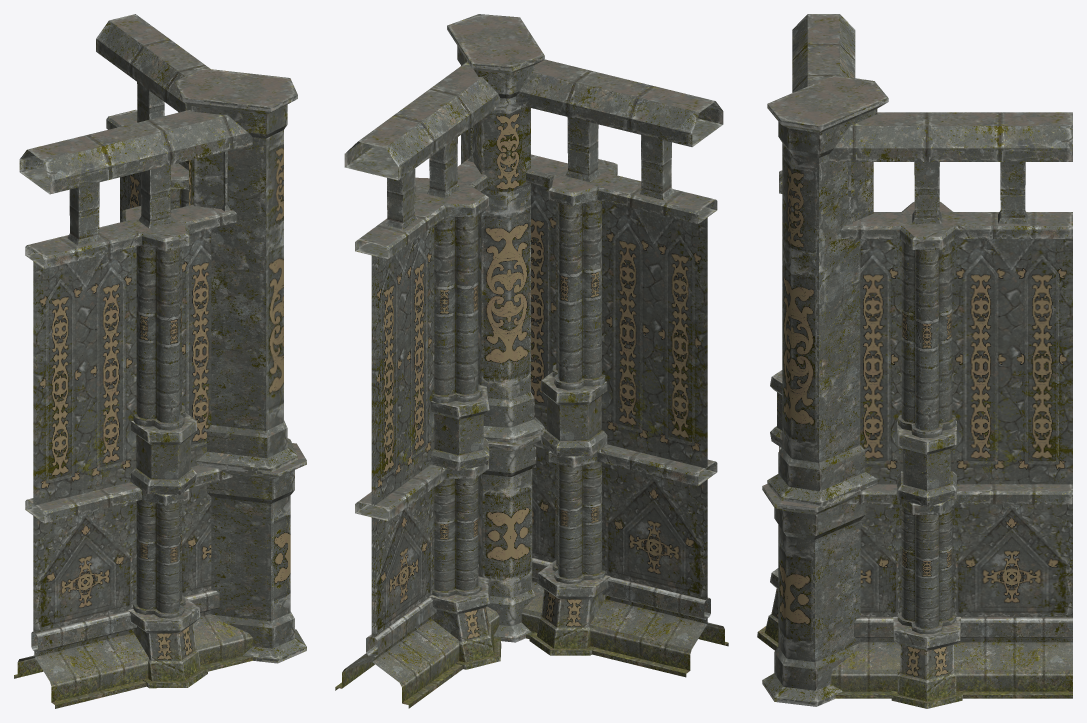
The model's file is SM_Kit_Tile_Wall_Stone_A_L2.fbx.
The picture shows the model from 3 angles, left to right: view 1: azimuth 30°, elevation 25°; view 2: azimuth 150°, elevation 25°; view 3: azimuth 270°, elevation 25°; orthographic projection. The views are drawn at different scales.
Parts seen in each view (by area): view 1: SM_Kit_Tile_Wall_Stone_A_L2_LOD0; view 2: SM_Kit_Tile_Wall_Stone_A_L2_LOD0; view 3: SM_Kit_Tile_Wall_Stone_A_L2_LOD0.
Boxes of the visible parts, x1,y1,x2,y2 form: SM_Kit_Tile_Wall_Stone_A_L2_LOD0: (14,14,306,708); SM_Kit_Tile_Wall_Stone_A_L2_LOD0: (335,14,728,708); SM_Kit_Tile_Wall_Stone_A_L2_LOD0: (757,14,1072,708).
Bounding box in the file's own units: 433 × 433 × 875.
Materials: 1 (1 with a texture image).
